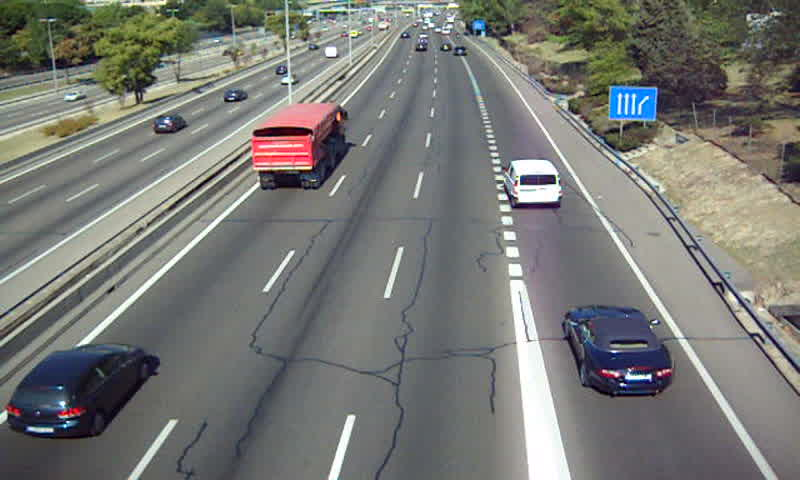car: (6, 342, 150, 438), (562, 306, 676, 393)
truck: (252, 102, 348, 188)
van: (504, 160, 562, 207)
